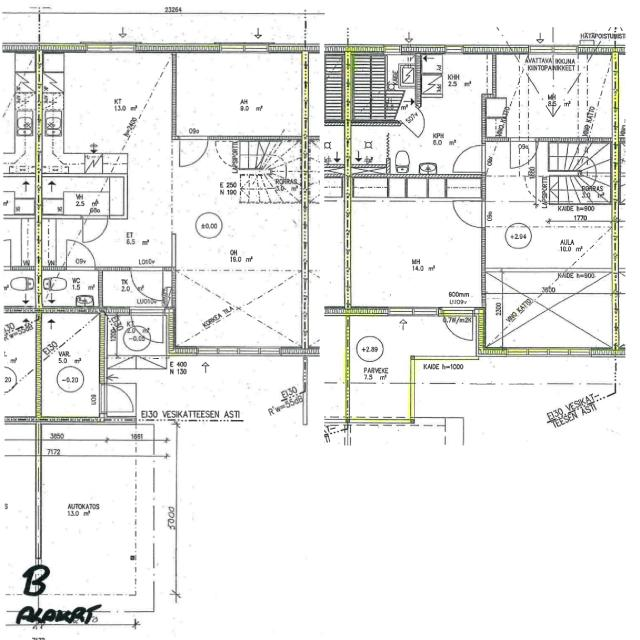door: (130, 306, 162, 346), (130, 266, 163, 301), (443, 307, 472, 344), (400, 106, 433, 137), (99, 384, 135, 412), (66, 239, 95, 270), (510, 137, 538, 168), (454, 200, 486, 227), (454, 145, 486, 172), (180, 136, 208, 166), (82, 214, 108, 242)
